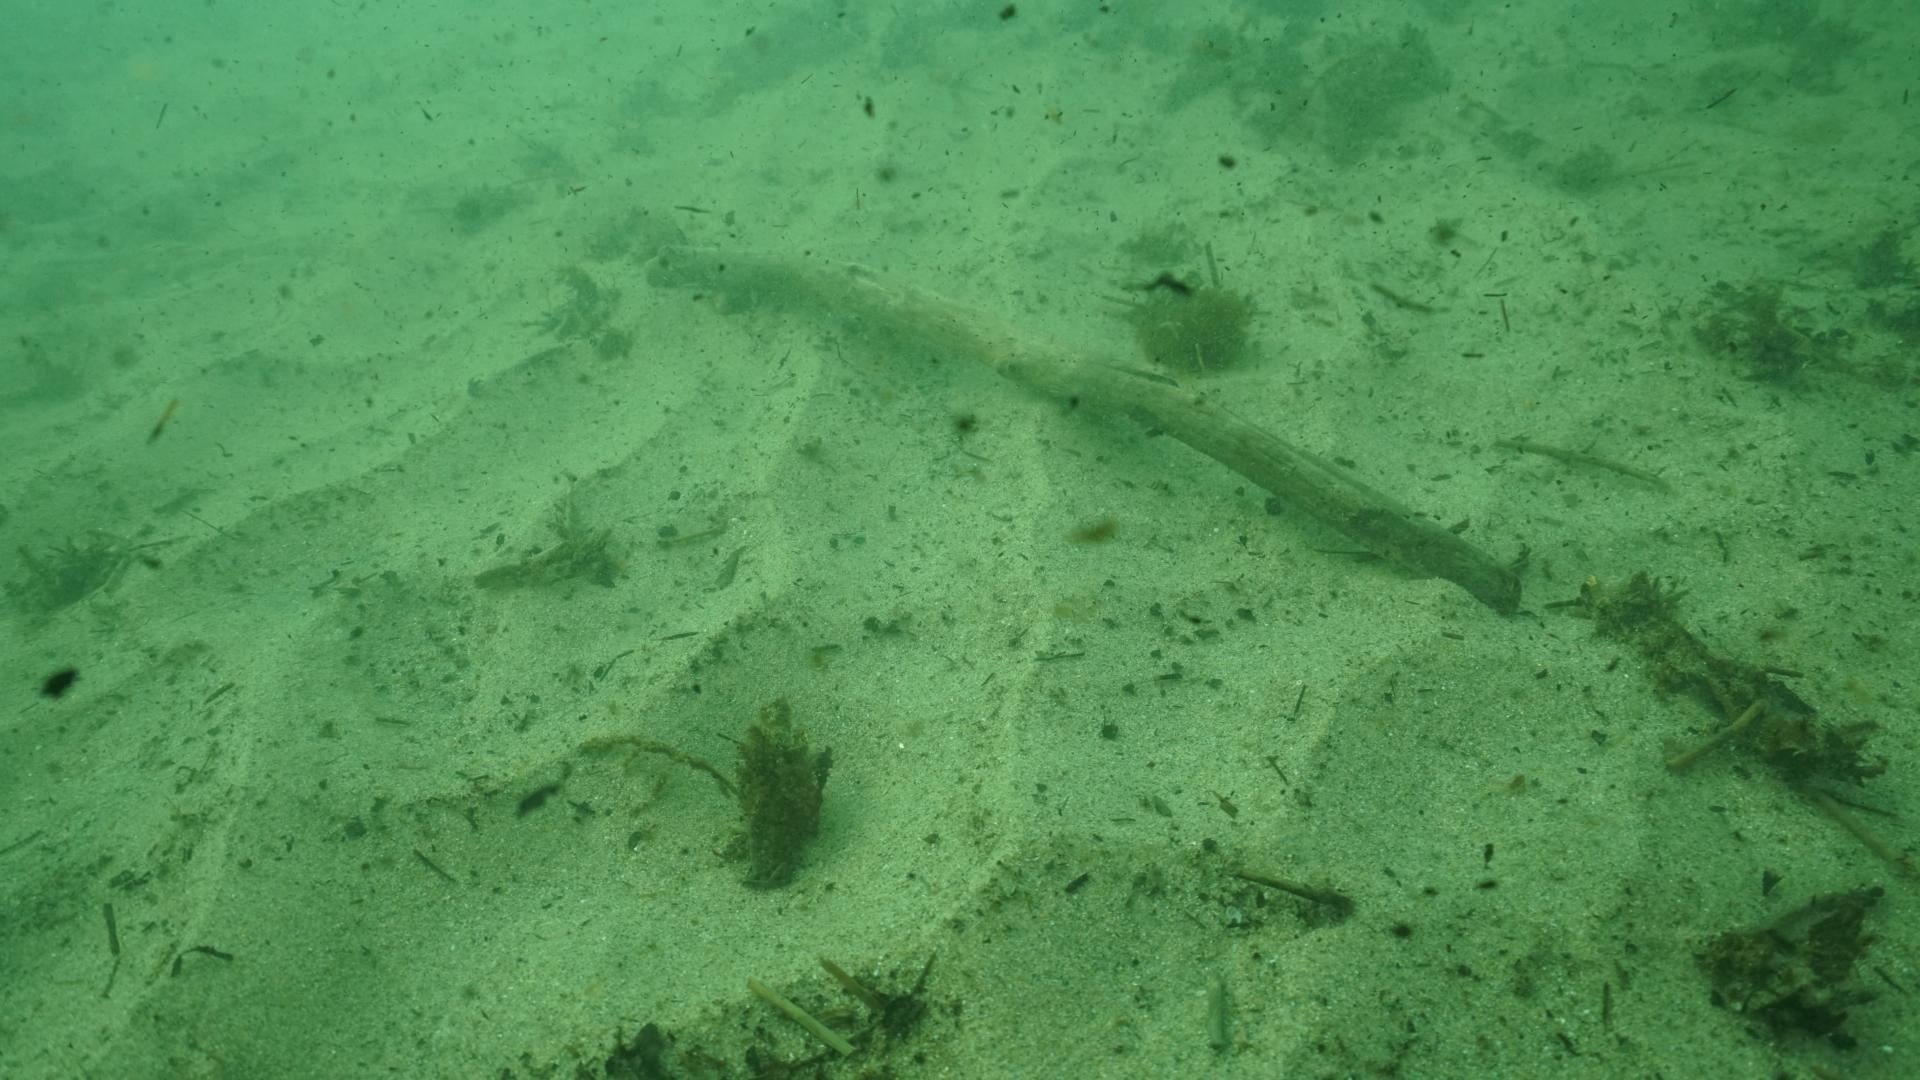wood: (659, 244, 1524, 618)
